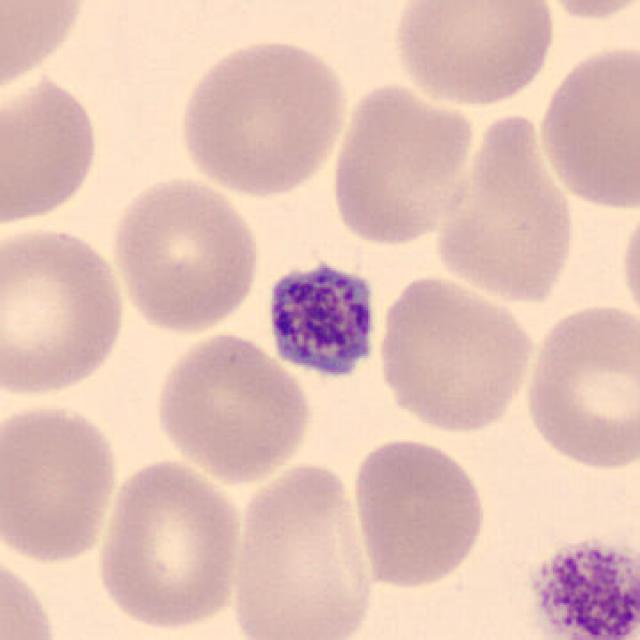Platelets: (261, 254, 386, 384), (521, 532, 640, 640)
RBC: (428, 108, 582, 306), (172, 34, 352, 199), (225, 458, 378, 640), (91, 455, 247, 633), (372, 270, 538, 435), (107, 171, 265, 339), (325, 78, 480, 248), (150, 328, 316, 485), (0, 219, 130, 402), (346, 434, 491, 592), (521, 298, 638, 474), (2, 398, 122, 568), (531, 36, 640, 213), (388, 0, 560, 111), (0, 71, 103, 229), (0, 0, 91, 97), (0, 546, 62, 640), (615, 196, 640, 332), (526, 0, 640, 23)
